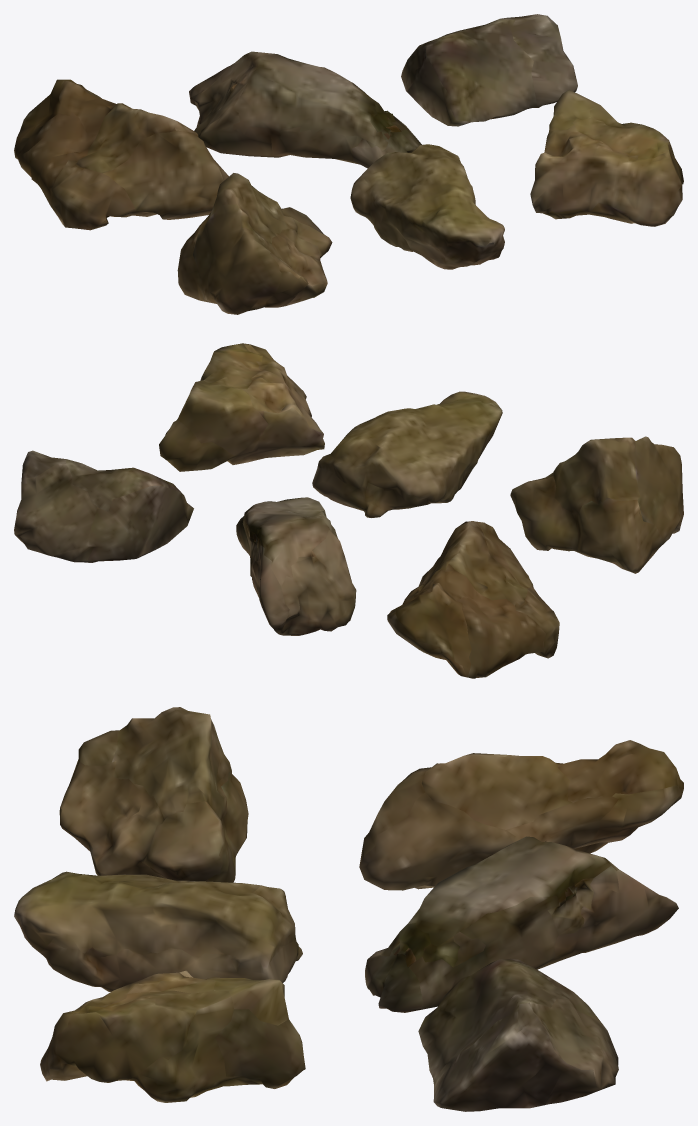
Rendered from rock_moss_set_01_lod1.glb.
3 renders of one model, top to bottom at view 1: azimuth 30°, elevation 25°; view 2: azimuth 150°, elevation 25°; view 3: azimuth 270°, elevation 25°, orthographic. The views are drawn at different scales.
Parts seen in each view (by area): view 1: rock_moss_set_01_rock01, rock_moss_set_01_rock02, rock_moss_set_01_rock06, rock_moss_set_01_rock04, rock_moss_set_01_rock03, rock_moss_set_01_rock05; view 2: rock_moss_set_01_rock04, rock_moss_set_01_rock01, rock_moss_set_01_rock05, rock_moss_set_01_rock03, rock_moss_set_01_rock06, rock_moss_set_01_rock02; view 3: rock_moss_set_01_rock01, rock_moss_set_01_rock02, rock_moss_set_01_rock05, rock_moss_set_01_rock04, rock_moss_set_01_rock06, rock_moss_set_01_rock03.
Boxes of the visible parts, x1,y1,x2,y2 form: rock_moss_set_01_rock01: (14, 79, 228, 230); rock_moss_set_01_rock02: (189, 51, 421, 168); rock_moss_set_01_rock06: (530, 89, 683, 226); rock_moss_set_01_rock04: (177, 173, 332, 314); rock_moss_set_01_rock03: (401, 14, 577, 126); rock_moss_set_01_rock05: (350, 144, 504, 269); rock_moss_set_01_rock04: (510, 436, 683, 573); rock_moss_set_01_rock01: (387, 521, 559, 678); rock_moss_set_01_rock05: (312, 391, 502, 517); rock_moss_set_01_rock03: (14, 450, 193, 562); rock_moss_set_01_rock06: (159, 343, 324, 471); rock_moss_set_01_rock02: (236, 497, 356, 635); rock_moss_set_01_rock01: (359, 740, 683, 890); rock_moss_set_01_rock02: (365, 836, 678, 1012); rock_moss_set_01_rock05: (14, 871, 302, 991); rock_moss_set_01_rock04: (59, 707, 248, 882); rock_moss_set_01_rock06: (40, 970, 305, 1102); rock_moss_set_01_rock03: (418, 959, 618, 1111).
Size of the model in its own units: 8 by 1.76 by 6.94.
Materials: 1 (1 with a texture image).
